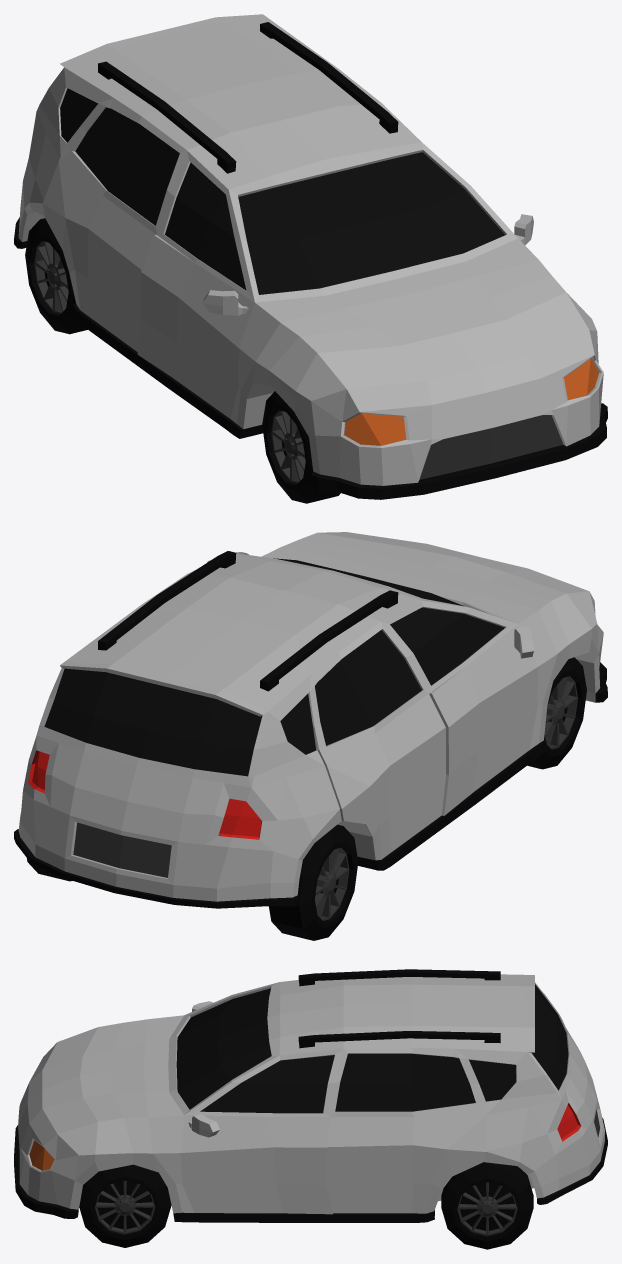
Rendered from car_SUV.glb.
The picture shows the model from 3 angles, top to bottom: view 1: azimuth 30°, elevation 25°; view 2: azimuth 150°, elevation 25°; view 3: azimuth 270°, elevation 25°; orthographic projection. The views are drawn at different scales.
Visible parts, largest first — view 1: SUV, SUV_FrontRightWheel, SUV_BackWheels; view 2: SUV, SUV_BackWheels, SUV_FrontRightWheel; view 3: SUV, SUV_BackWheels, SUV_FrontLeftWheel.
Boxes of the visible parts, x1,y1,x2,y2 form: SUV: (14, 14, 607, 499); SUV_FrontRightWheel: (262, 391, 340, 503); SUV_BackWheels: (25, 218, 87, 334); SUV: (14, 532, 607, 908); SUV_BackWheels: (27, 824, 358, 940); SUV_FrontRightWheel: (527, 657, 586, 769); SUV: (14, 969, 607, 1222); SUV_BackWheels: (441, 1162, 533, 1249); SUV_FrontLeftWheel: (79, 1164, 171, 1247).
Size of the model in its own units: 2.41 by 1.74 by 4.8.
1 material, 1 textured.
